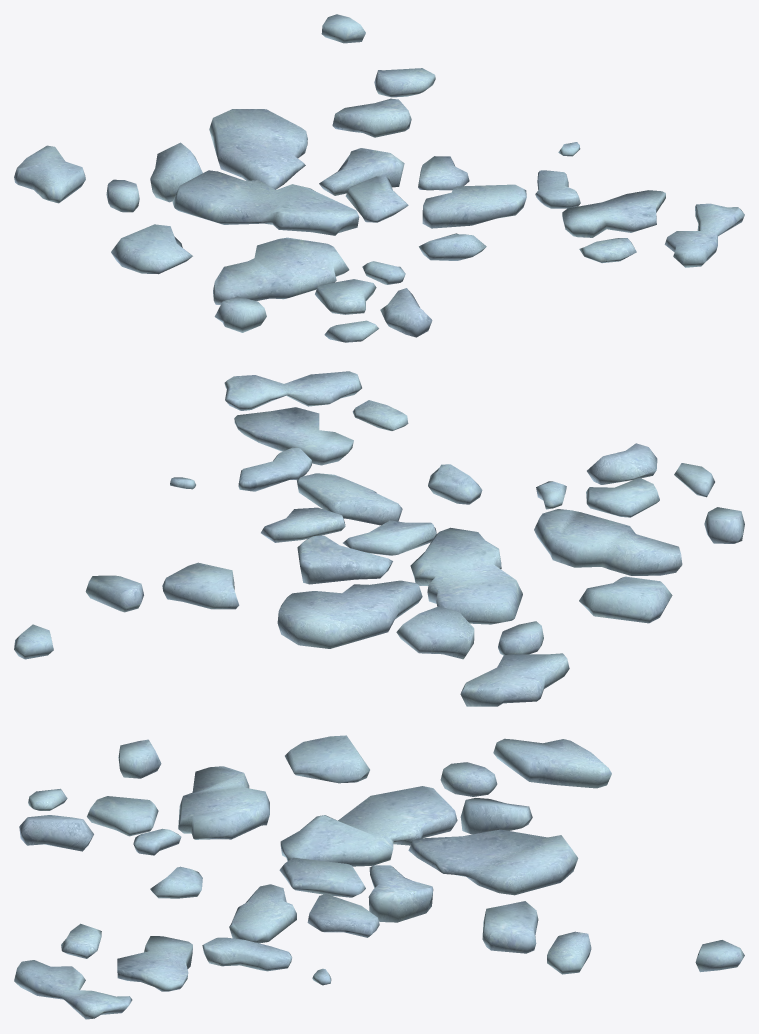
File: tesv_icefloes01-transformed.glb
3 views of the same model, one above another, from view 1: azimuth 30°, elevation 25°; view 2: azimuth 150°, elevation 25°; view 3: azimuth 270°, elevation 25° (orthographic). The views are drawn at different scales.
Visible parts, largest first — view 1: icefloes01; view 2: icefloes01; view 3: icefloes01.
Part boxes in pixels (x1,y1,x2,y2): icefloes01: (14,14,744,342); icefloes01: (14,371,744,706); icefloes01: (14,735,744,1019).
Bounding box in the file's own units: 21.39 × 1.44 × 24.37.
Materials: 1 (1 with a texture image).
